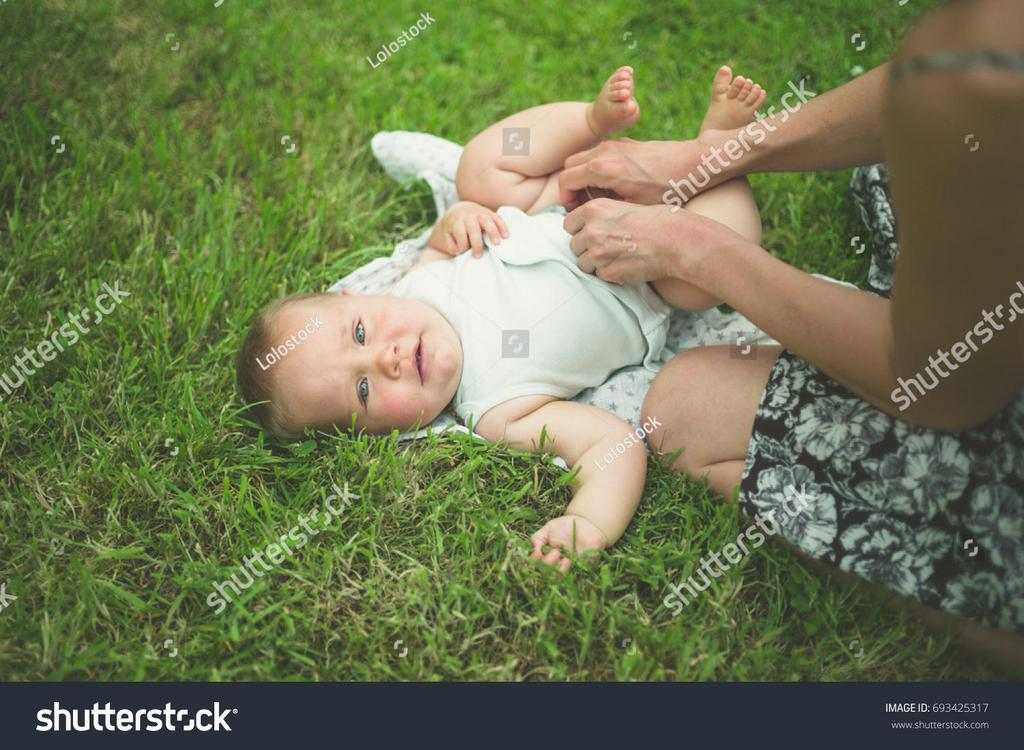child: (225, 63, 784, 581)
